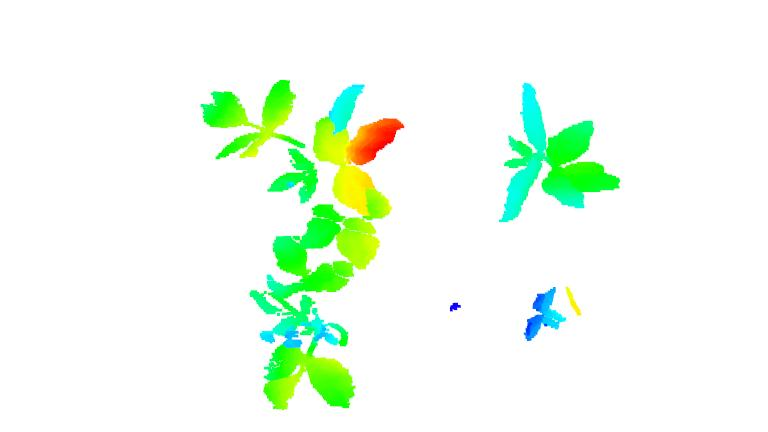mungbean: (201, 73, 402, 265), (246, 232, 363, 413), (500, 81, 625, 227)
